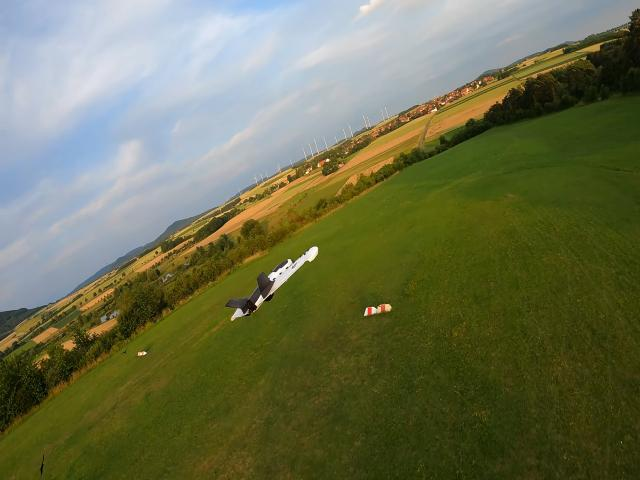plane: (227, 244, 318, 321)
